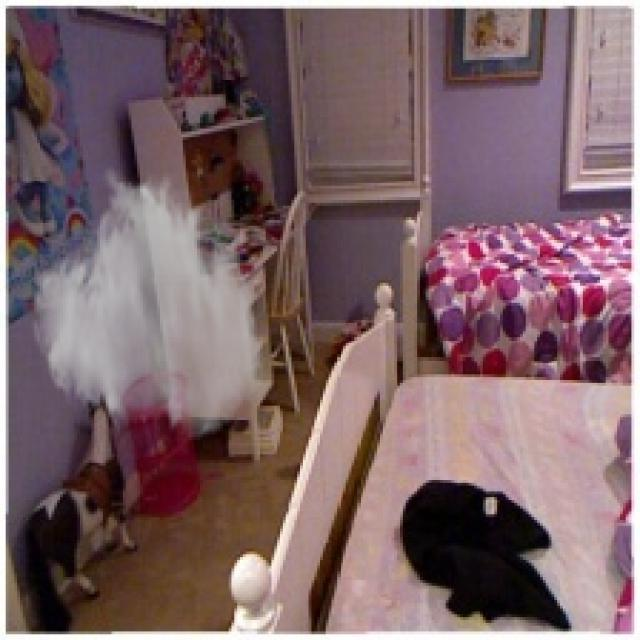Smoke: (28, 163, 266, 443)
